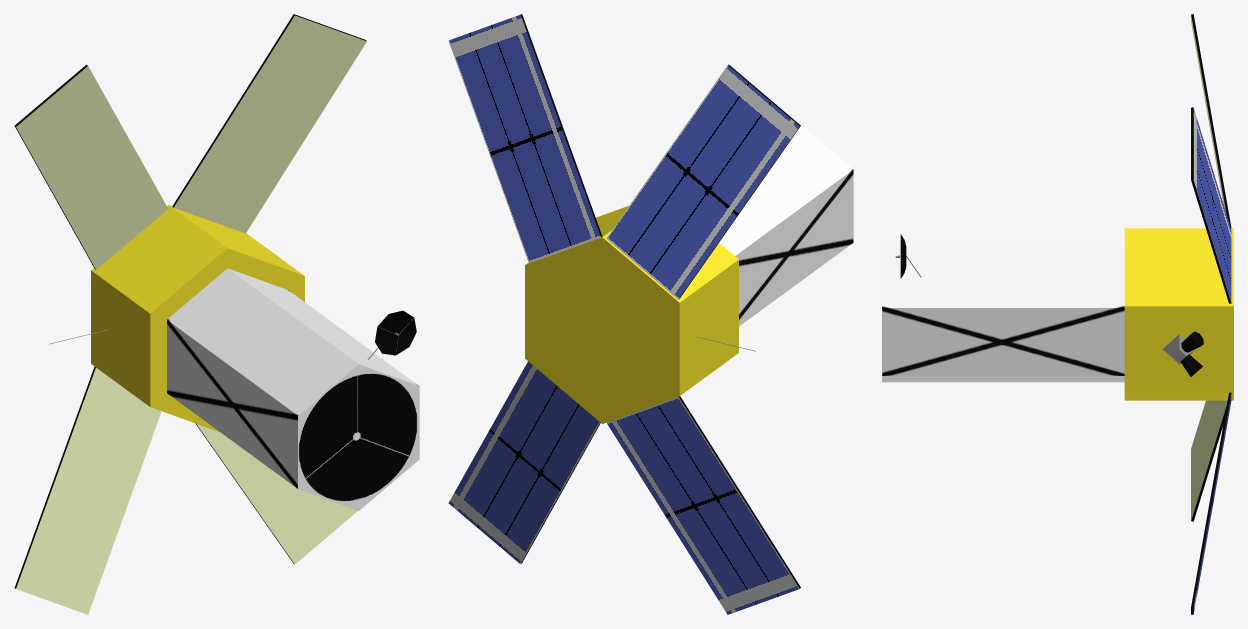
File: image_sat.fbx
The picture shows the model from 3 angles, left to right: view 1: azimuth 30°, elevation 25°; view 2: azimuth 150°, elevation 25°; view 3: azimuth 270°, elevation 25°; orthographic projection. The views are drawn at different scales.
Parts seen in each view (by area): view 1: image_sat; view 2: image_sat; view 3: image_sat.
Boxes of the visible parts, <box> form: image_sat: <box>14,14,419,614</box>; image_sat: <box>448,14,853,614</box>; image_sat: <box>882,14,1233,614</box>.
Bounding box in the file's own units: 554 × 883 × 591.
